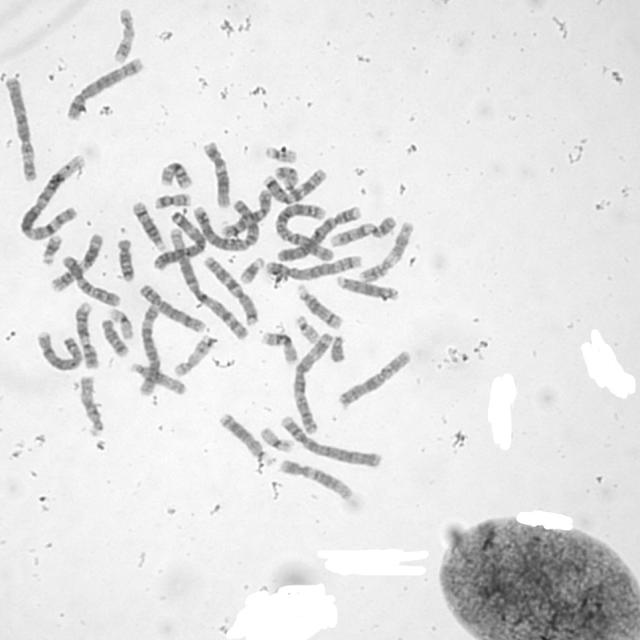A1: (167, 223, 250, 339), (19, 151, 86, 241)
A2: (191, 194, 264, 252), (274, 200, 335, 263)
A3: (290, 330, 334, 435), (151, 210, 208, 272)
B4: (279, 413, 384, 469), (272, 203, 362, 263)
B5: (64, 55, 146, 121), (263, 252, 363, 281)
C10: (58, 252, 122, 307), (219, 188, 274, 238)
C11: (357, 219, 416, 283), (49, 230, 106, 292)
C12: (276, 457, 355, 502), (198, 138, 232, 209)
C6: (1, 72, 39, 182), (134, 302, 162, 398)
C7: (200, 253, 260, 325), (260, 167, 328, 205)
C8: (136, 280, 208, 333), (34, 328, 84, 373)
C9: (328, 214, 399, 248), (73, 301, 100, 368)
D13: (216, 411, 265, 460), (334, 273, 400, 303)
D14: (294, 283, 343, 330), (130, 197, 168, 252)
D15: (128, 359, 189, 396), (76, 373, 105, 436)
E16: (258, 329, 300, 366), (158, 158, 195, 191)
E17: (172, 333, 218, 378), (110, 4, 137, 65)
E18: (99, 317, 131, 358), (114, 235, 136, 282)
F19: (258, 424, 294, 453), (106, 306, 136, 340)
F20: (152, 189, 193, 210), (272, 164, 300, 191)
G21: (38, 231, 64, 266), (237, 254, 266, 285)
G22: (294, 312, 320, 344), (261, 144, 299, 164)
X: (335, 347, 414, 409)
Y: (328, 333, 346, 364)
